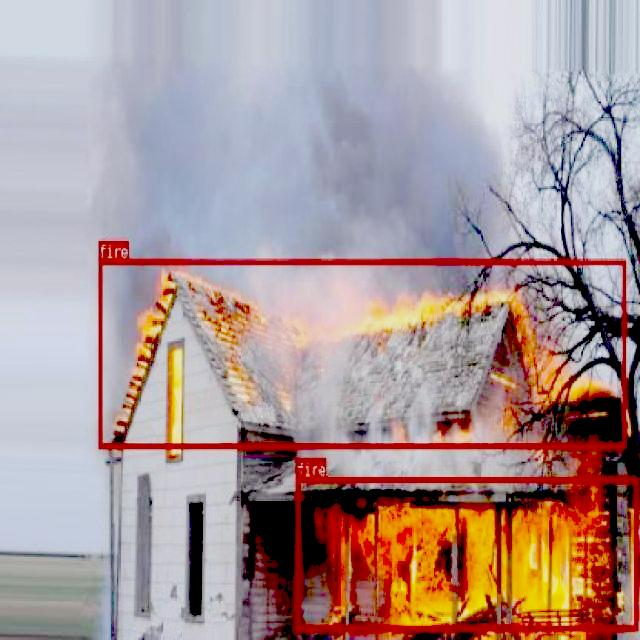fire: (98, 257, 626, 448), (294, 476, 638, 630)
